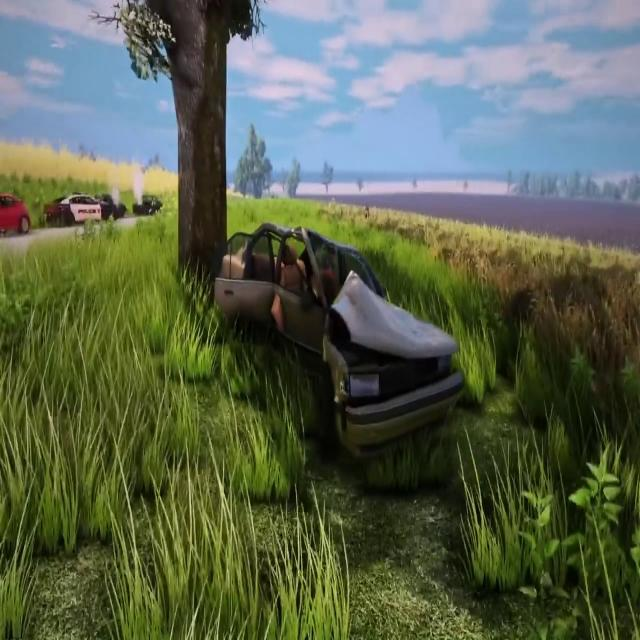accident: (173, 208, 466, 462)
